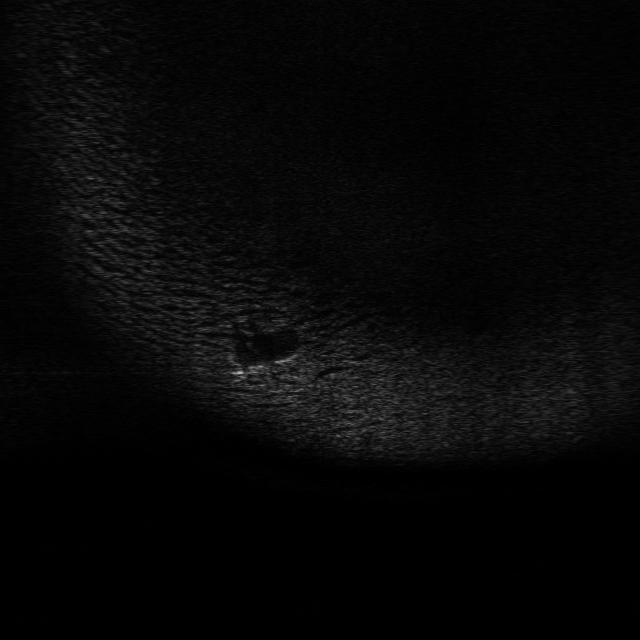plane: (224, 349, 306, 383)
